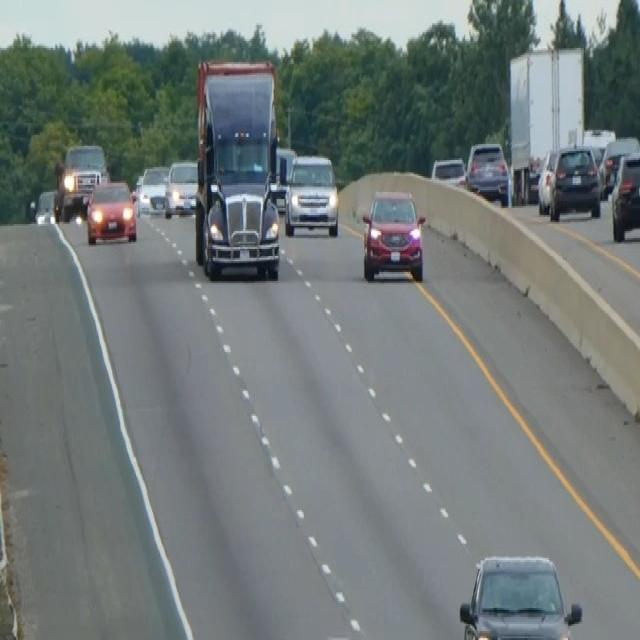car: (458, 551, 582, 638), (360, 186, 426, 282), (283, 151, 339, 237), (54, 140, 109, 220), (548, 142, 601, 220), (85, 178, 137, 245), (465, 138, 510, 204), (610, 149, 639, 242), (598, 135, 638, 197), (163, 158, 198, 217), (270, 144, 297, 210), (138, 164, 168, 214), (536, 146, 558, 213), (430, 154, 466, 188), (30, 187, 59, 226)
lorry: (192, 55, 282, 281)
